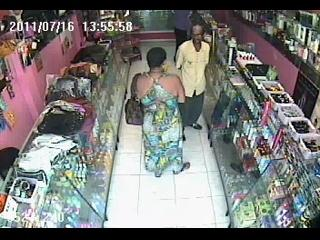Normal: (130, 47, 189, 177), (174, 24, 210, 132), (125, 98, 144, 126)
